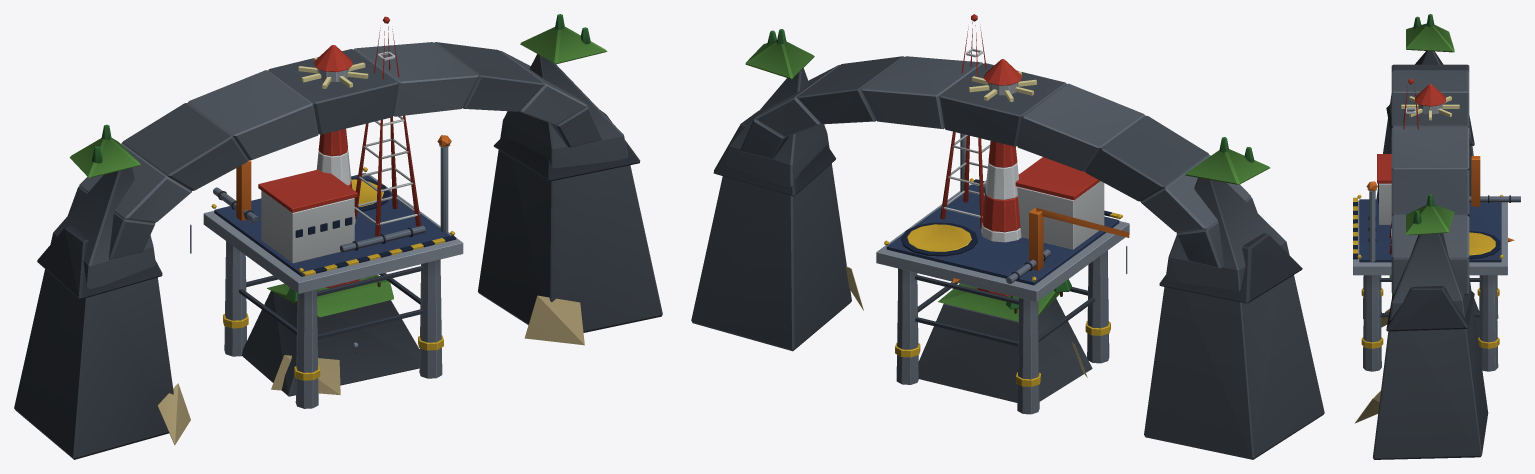
Rendered from sea2.glb.
The picture shows the model from 3 angles, left to right: view 1: azimuth 30°, elevation 25°; view 2: azimuth 150°, elevation 25°; view 3: azimuth 270°, elevation 25°; orthographic projection. The views are drawn at different scales.
Visible parts, largest first — view 1: prop_arch_body, prop_rig_body, prop_lighthouse_body, prop_lighthouse_glow; view 2: prop_arch_body, prop_rig_body, prop_lighthouse_body; view 3: prop_arch_body, prop_rig_body, prop_lighthouse_body, prop_lighthouse_glow.
Boxes of the visible parts, x1,y1,x2,y2 form: prop_arch_body: (14, 14, 662, 459); prop_rig_body: (190, 26, 463, 408); prop_lighthouse_body: (241, 45, 419, 396); prop_lighthouse_glow: (298, 57, 368, 88); prop_arch_body: (691, 29, 1324, 459); prop_rig_body: (876, 22, 1129, 414); prop_lighthouse_body: (918, 59, 1092, 402); prop_arch_body: (1355, 14, 1488, 459); prop_rig_body: (1353, 87, 1520, 371); prop_lighthouse_body: (1381, 84, 1479, 346); prop_lighthouse_glow: (1401, 96, 1459, 120).
Bounding box in the file's own units: 85.88 × 48.54 × 26.
